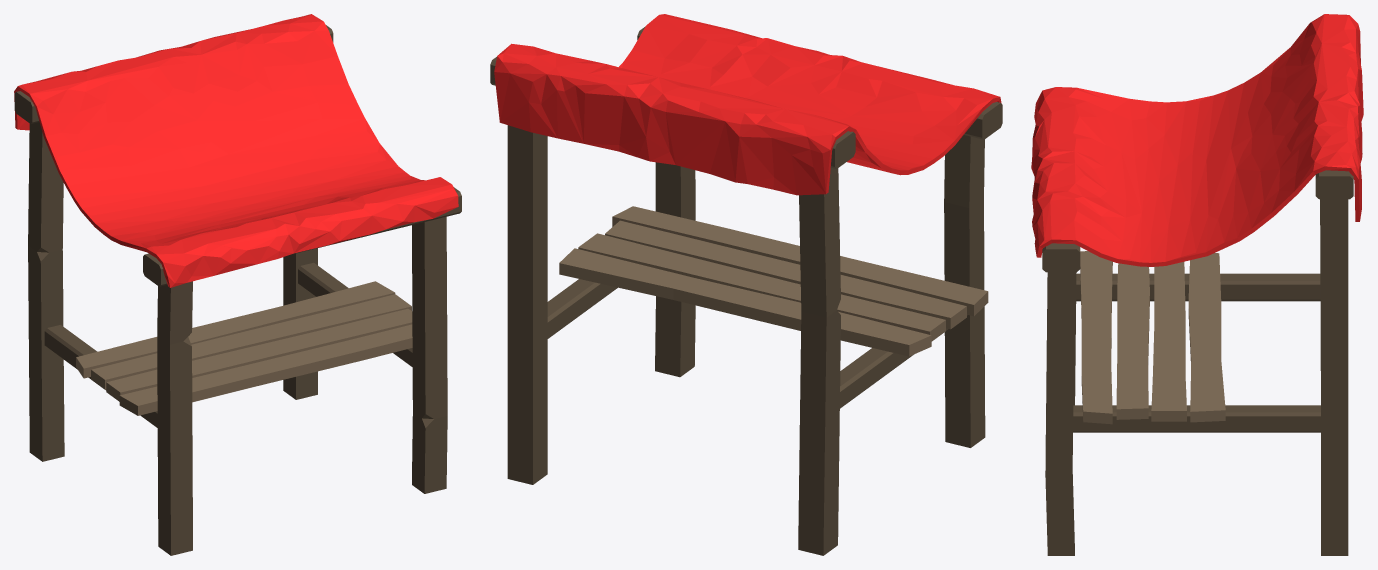
File: stand_c.FBX
The picture shows the model from 3 angles, left to right: view 1: azimuth 30°, elevation 25°; view 2: azimuth 150°, elevation 25°; view 3: azimuth 270°, elevation 25°; orthographic projection. The views are drawn at different scales.
Visible parts, largest first — view 1: stand_c; view 2: stand_c; view 3: stand_c.
Boxes of the visible parts, x1,y1,x2,y2 form: stand_c: [14, 14, 461, 555]; stand_c: [490, 14, 1002, 555]; stand_c: [1031, 14, 1363, 555].
Bounding box in the file's own units: 2.58 × 2.89 × 2.21.
